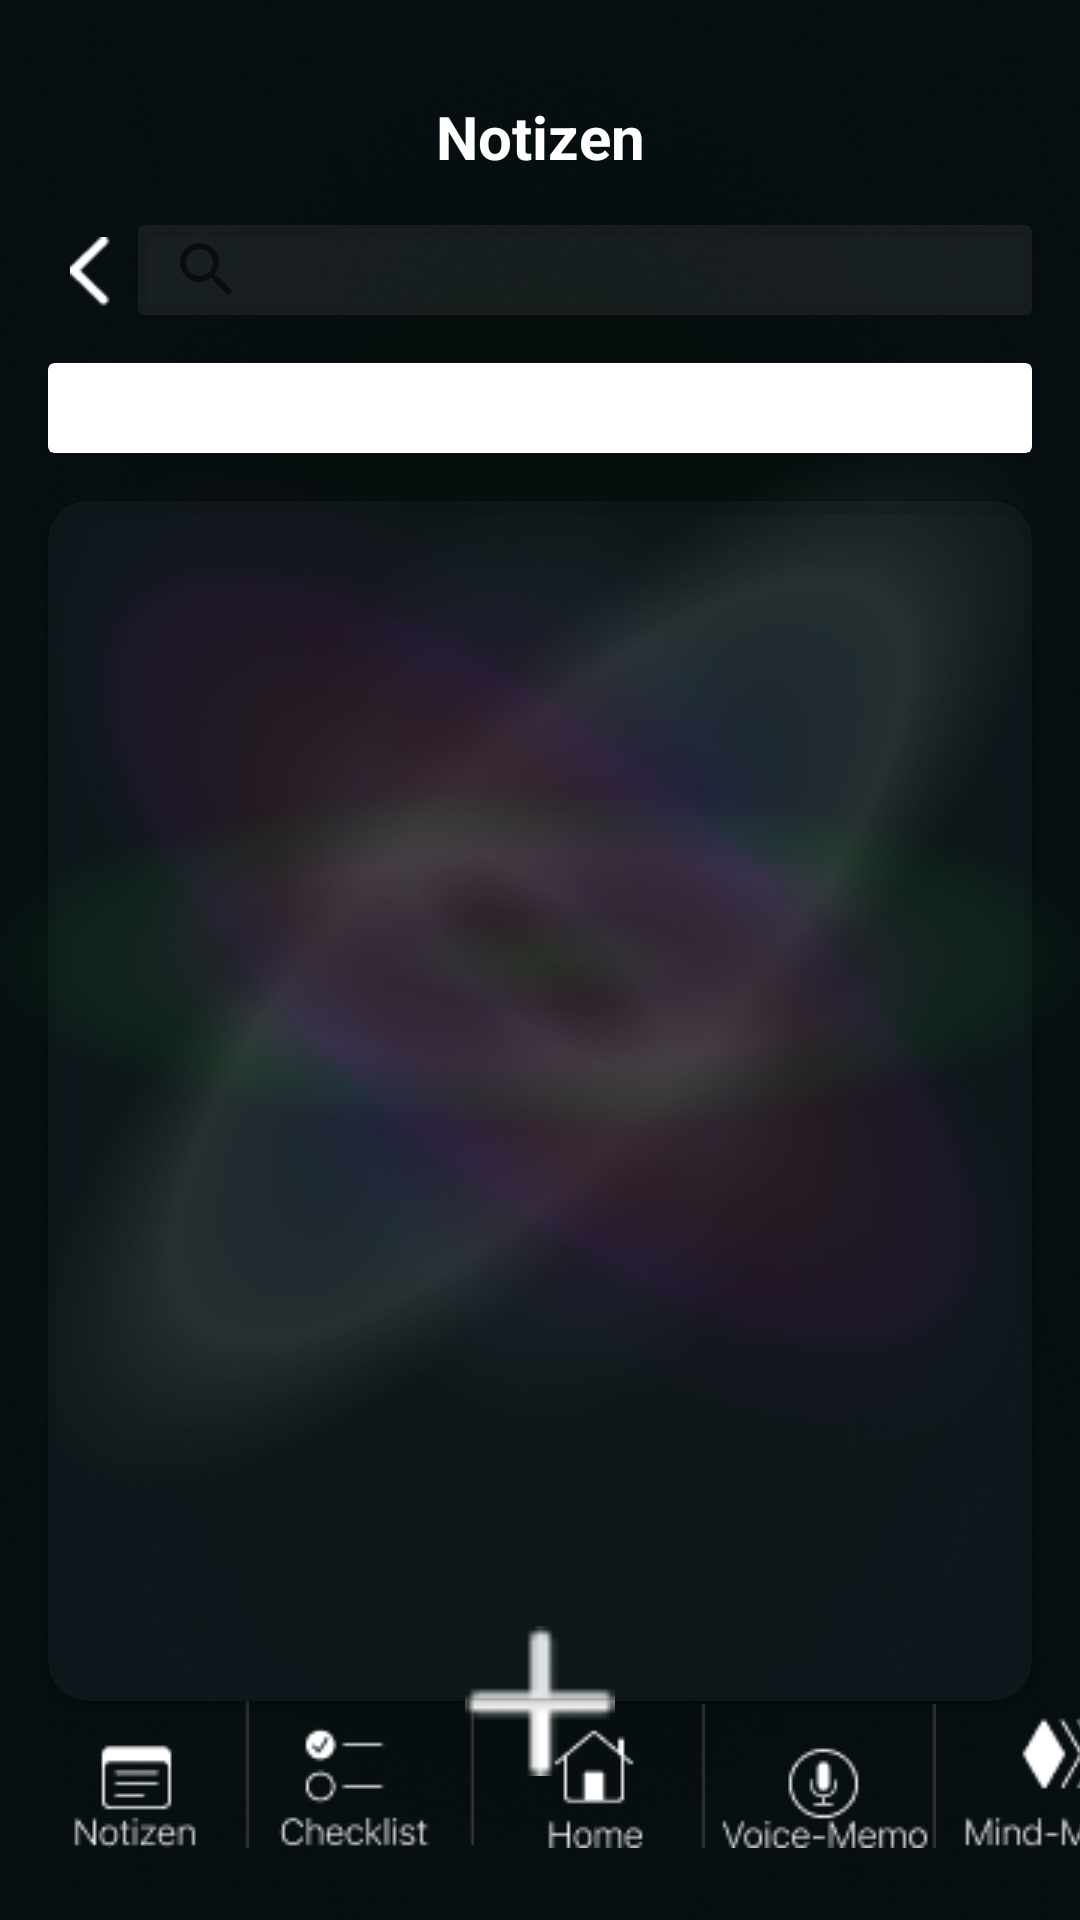

Icons on this 1080w x 1920h Android screen, each with the point to tap as [x,y]:
add wei: [540,1701]
backbutton: [90,271]
